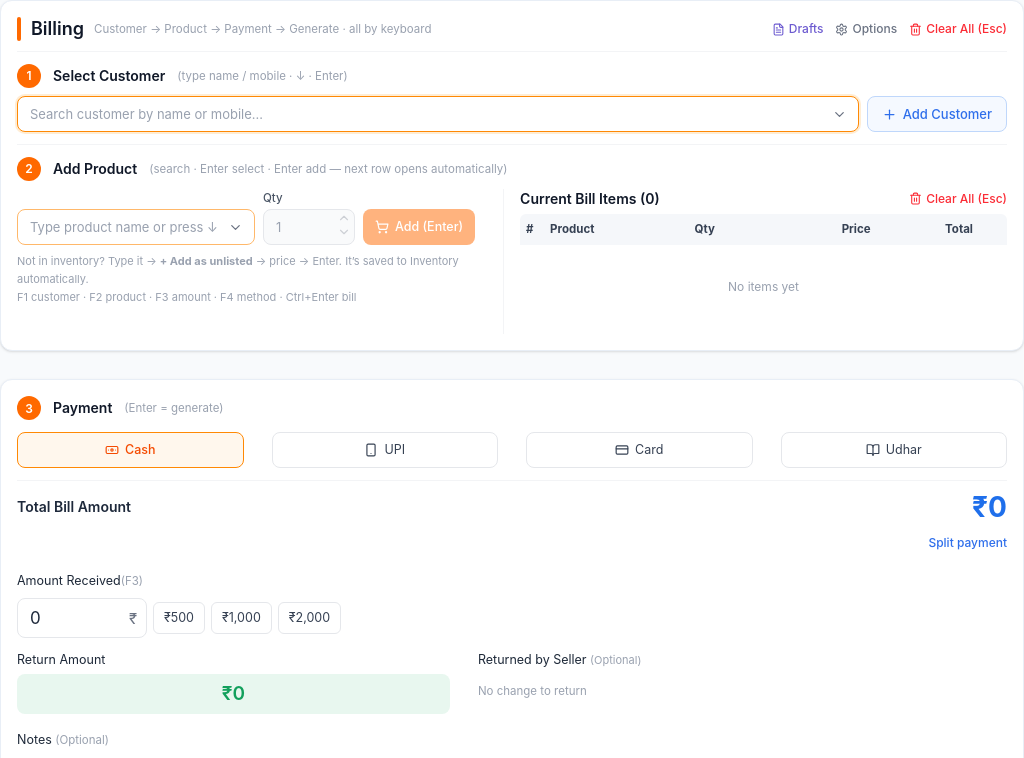
Scenario: Enter key › pressed while the search runs and nothing is found anywhere: the new-customer form opens (intended flow) after the answer
Type "9876543210" into the field labelled "customer".
click(438, 114); type("9876543210")  # box [17,96,859,132]
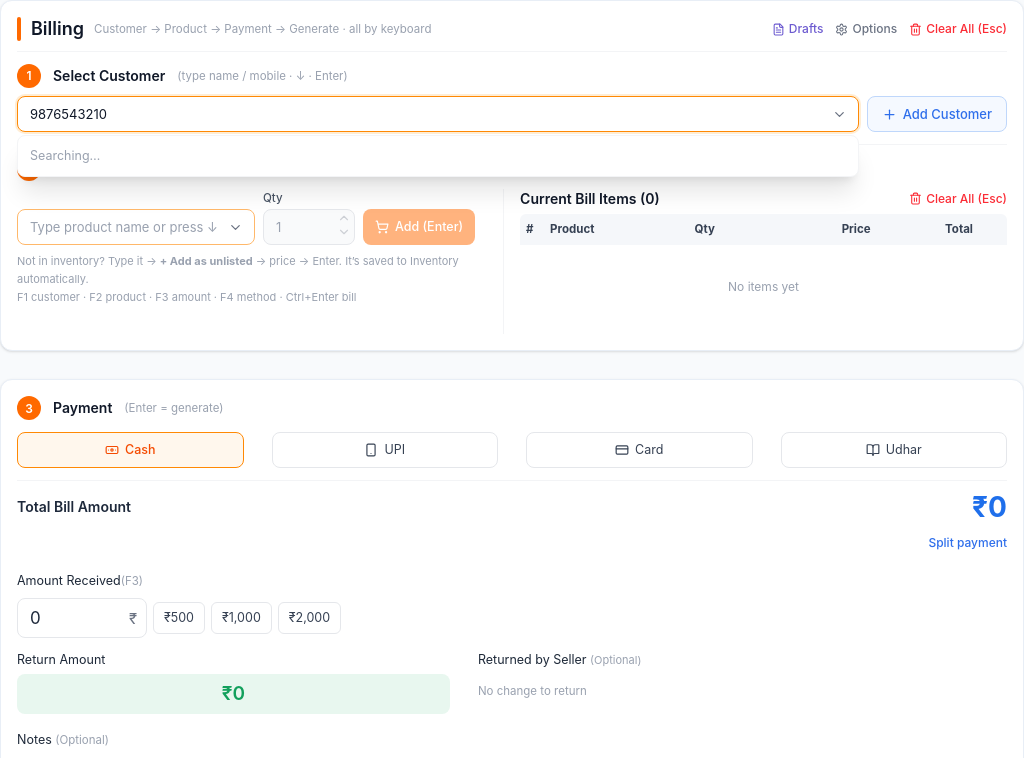
Press Enter in the field named "customer", box [17,96,859,132]
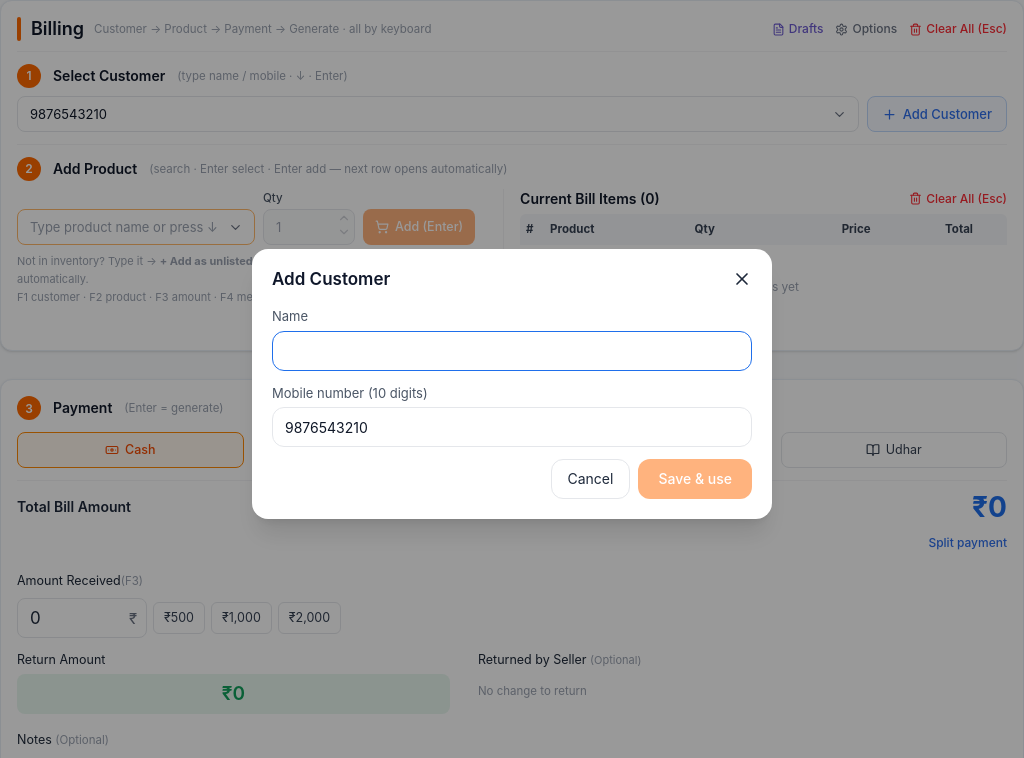
Now the field labelled "Mobile number (10 digits)" holds "9876543210", box [272,407,752,447]
